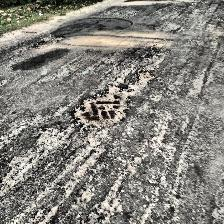pothole: (68, 84, 132, 130), (32, 35, 66, 49), (136, 70, 154, 84)
